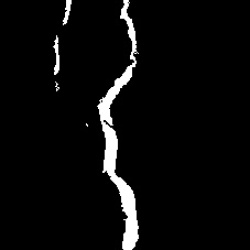crack: (98, 2, 140, 247), (49, 3, 71, 92)
pinhole: (80, 117, 91, 129)
